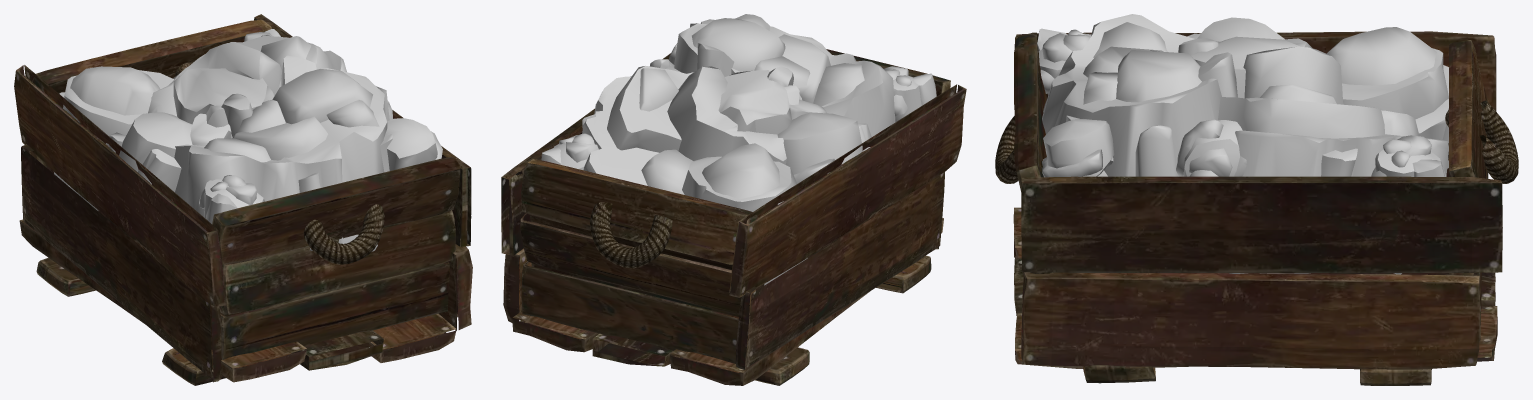
3 renders of one model, left to right at view 1: azimuth 30°, elevation 25°; view 2: azimuth 150°, elevation 25°; view 3: azimuth 270°, elevation 25°, orthographic. The views are drawn at different scales.
Visible parts, largest first — view 1: SM_Dec_Garou_Chest_Clay_Small_LOD0; view 2: SM_Dec_Garou_Chest_Clay_Small_LOD0; view 3: SM_Dec_Garou_Chest_Clay_Small_LOD0.
Part boxes in pixels (<box>): SM_Dec_Garou_Chest_Clay_Small_LOD0: <box>14,14,472,385</box>; SM_Dec_Garou_Chest_Clay_Small_LOD0: <box>501,14,966,385</box>; SM_Dec_Garou_Chest_Clay_Small_LOD0: <box>995,14,1518,385</box>.
Bounding box in the file's own units: 0.6922 × 0.5825 × 0.9929.
